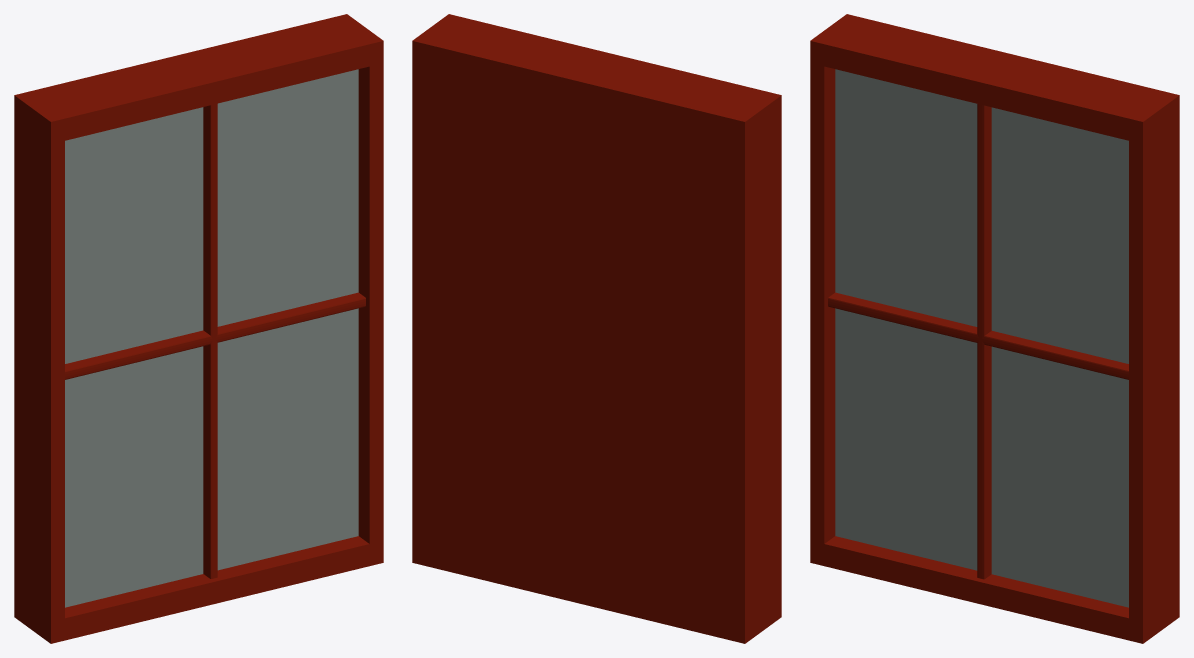
Rendered from Jendela.fbx.
The picture shows the model from 3 angles, left to right: view 1: azimuth 30°, elevation 25°; view 2: azimuth 150°, elevation 25°; view 3: azimuth 330°, elevation 25°; orthographic projection.
Parts seen in each view (by area): view 1: Cube; view 2: Cube; view 3: Cube.
Boxes of the visible parts, bbox=[...] form: Cube: bbox=[14, 14, 383, 643]; Cube: bbox=[412, 14, 781, 643]; Cube: bbox=[810, 14, 1179, 643].
Bounding box in the file's own units: 223 × 334 × 42.49.
